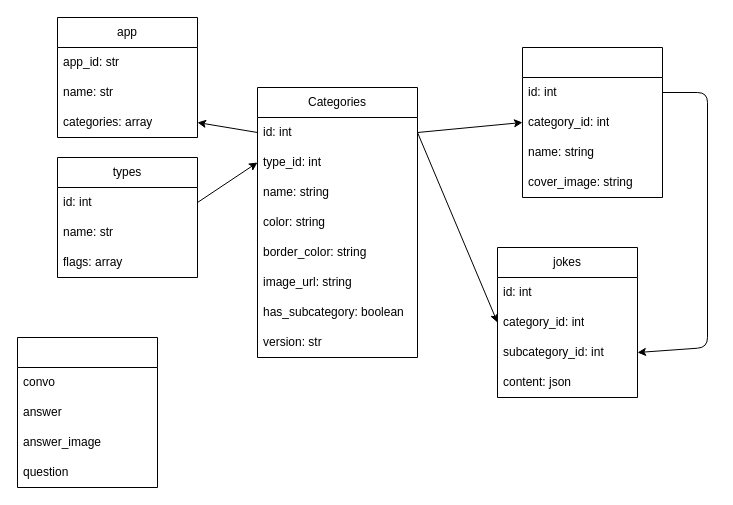
Some shapes in this 733 by 505 pixel diagram are drawn without their labels. The shapes that lost their labels are listed below. From the top down, each one's box as (x1, y1, x2, y2) in pixels, then its label:
(522, 46, 662, 198): Sub Categories
(16, 336, 158, 488): Base types
